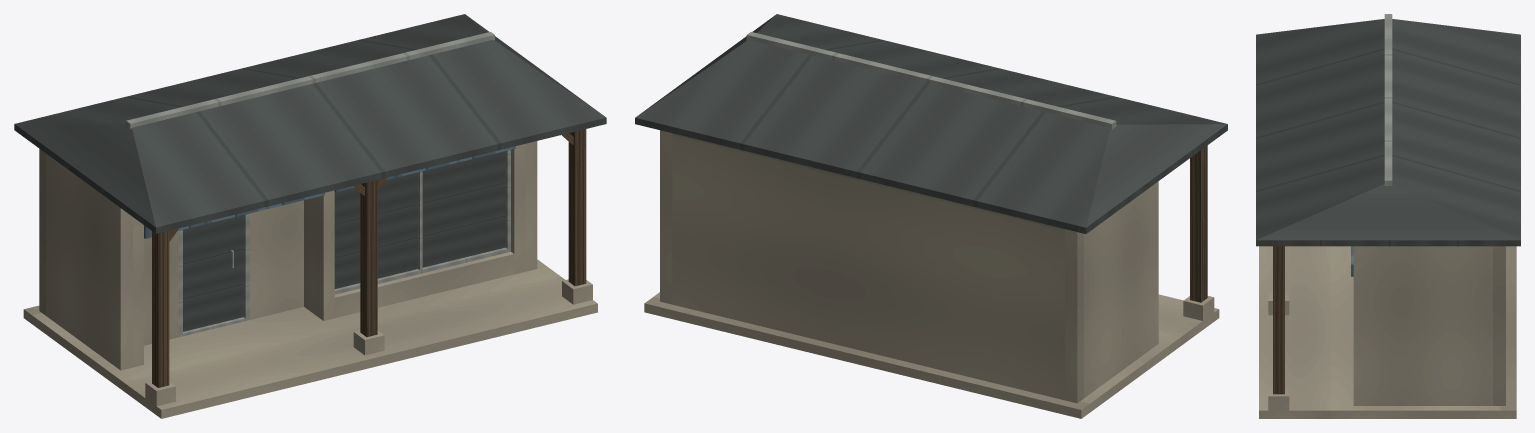
Rendered from vienna.glb.
The picture shows the model from 3 angles, left to right: view 1: azimuth 30°, elevation 25°; view 2: azimuth 150°, elevation 25°; view 3: azimuth 270°, elevation 25°; orthographic projection. The views are drawn at different scales.
Parts seen in each view (by area): view 1: vienna; view 2: vienna; view 3: vienna.
Part boxes in pixels (left/top/right/bottom): vienna: left=14, top=14, right=606, bottom=418; vienna: left=635, top=14, right=1227, bottom=418; vienna: left=1256, top=14, right=1520, bottom=418.
Size of the model in its own units: 7.35 by 3.7 by 4.
1 material, 1 textured.
